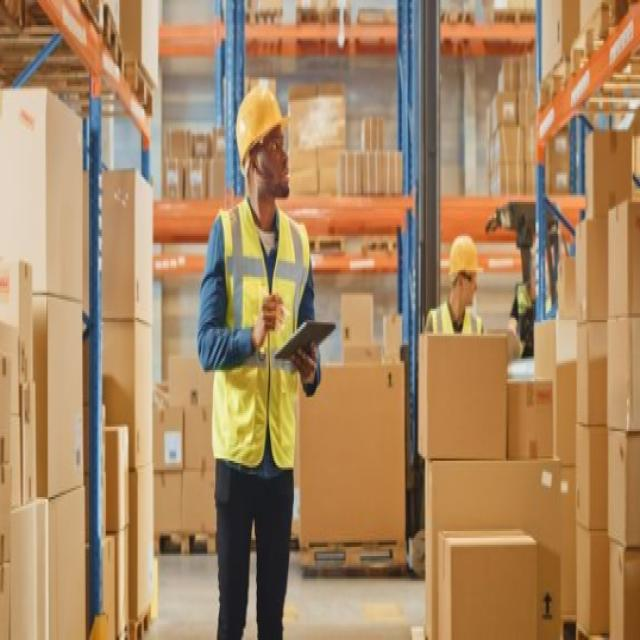helmet: (235, 80, 298, 199), (448, 232, 484, 304)
vest: (210, 194, 313, 476), (424, 295, 488, 428)
